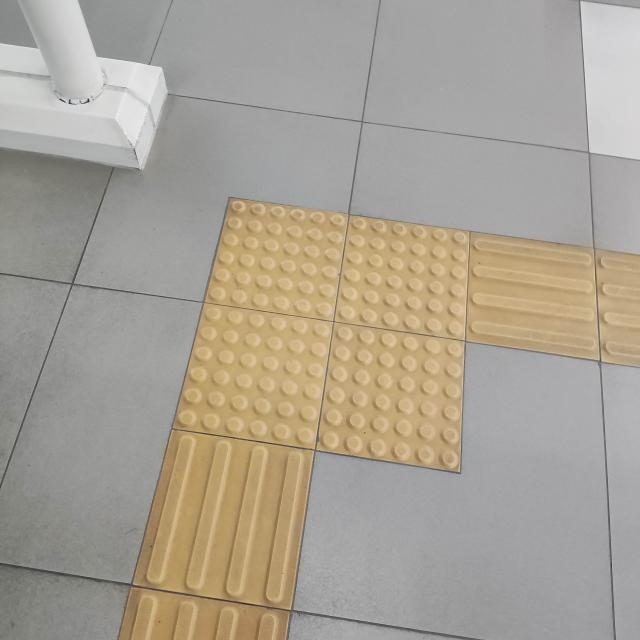kanan: (173, 151, 640, 522)
